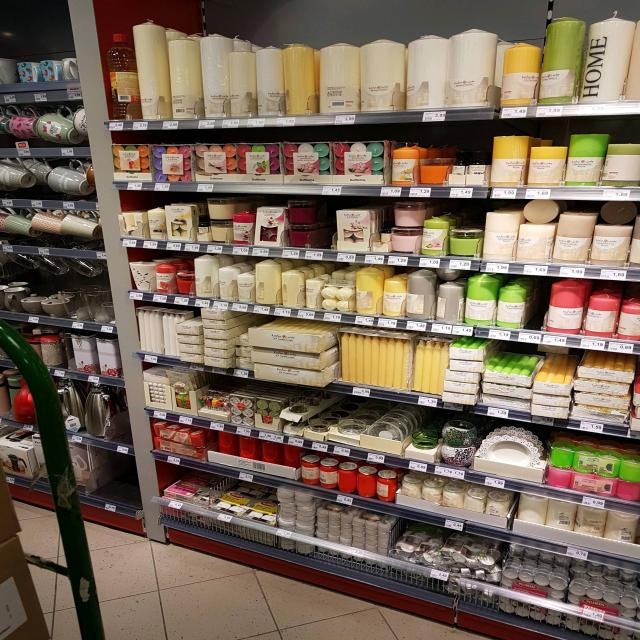void: (115, 455, 142, 520), (94, 449, 112, 511), (320, 204, 336, 262)
